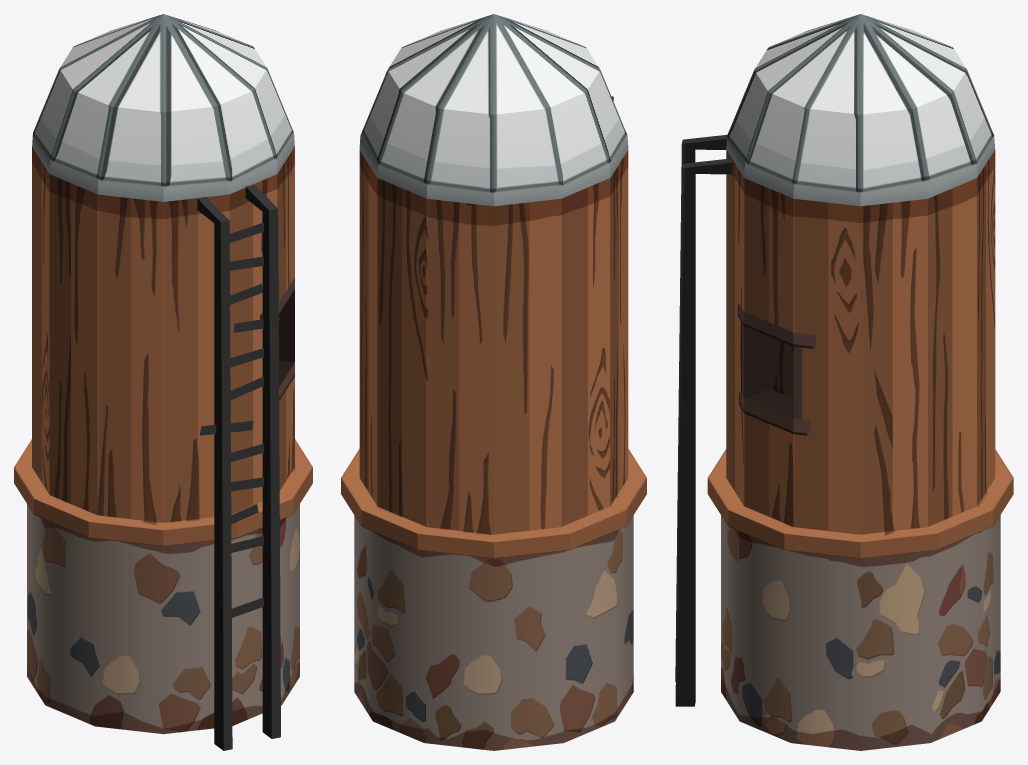
The model's file is farm_silo.fbx.
The picture shows the model from 3 angles, left to right: view 1: azimuth 30°, elevation 25°; view 2: azimuth 150°, elevation 25°; view 3: azimuth 270°, elevation 25°; orthographic projection. The views are drawn at different scales.
Parts seen in each view (by area): view 1: farm:silo; view 2: farm:silo; view 3: farm:silo.
Part boxes in pixels (box(x1,y1,x2,y2)): farm:silo: box(14, 14, 312, 750); farm:silo: box(341, 14, 646, 750); farm:silo: box(675, 14, 1013, 750).
Size of the model in its own units: 2.77 by 6.78 by 3.06.
